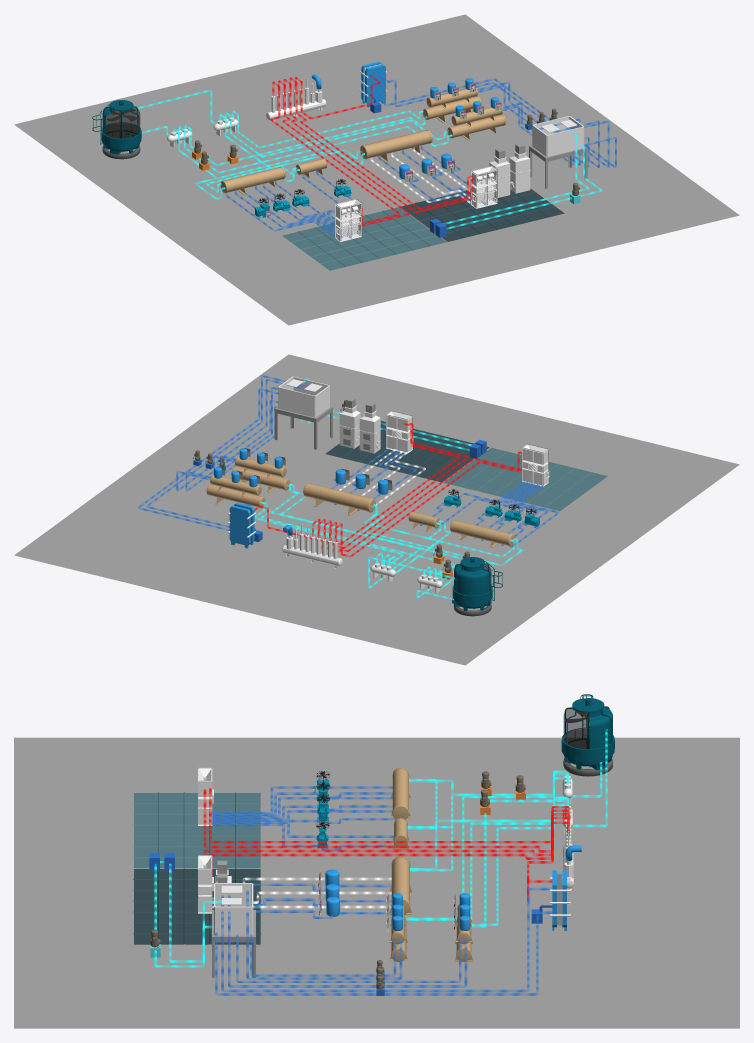
Rendered from psy-20t-1.glb.
3 views of the same model, one above another, from view 1: azimuth 30°, elevation 25°; view 2: azimuth 150°, elevation 25°; view 3: azimuth 270°, elevation 25° (orthographic). The views are drawn at different scales.
Visible parts, largest first — view 1: Land_4_floor, FBXASC229FBXASC185FBXASC179FBXASC233FBXASC157FBXASC162FBXASC, FBXASC231FBXASC171FBXASC139FBXASC230FBXASC150FBXASC185FBXAS. (×2), FBXASC229FBXASC134FBXASC183FBXASC229FBXASC135FBXASC157FBXASC (×3), cool_twr_fan_model, FBXASC229FBXASC164FBXASC150FBXASC232FBXASC146FBXASC184FBXASC, 4_GD_move.006, id_fan_induce2_model, od_fanirhd_model, id_fan_airhd_model, FBXASC229FBXASC134FBXASC183FBXASC229FBXASC135FBXASC157FBXAS, 4_GD_move.017 (+10 smaller); view 2: Land_4_floor, FBXASC229FBXASC185FBXASC179FBXASC233FBXASC157FBXASC162FBXASC, FBXASC231FBXASC171FBXASC139FBXASC230FBXASC150FBXASC185FBXAS. (×2), FBXASC229FBXASC134FBXASC183FBXASC229FBXASC135FBXASC157FBXASC (×3), cool_twr_fan_model, FBXASC229FBXASC164FBXASC150FBXASC232FBXASC146FBXASC184FBXASC, FBXASC229FBXASC134FBXASC183FBXASC229FBXASC135FBXASC157FBXAS. (×2), od_fanirhd_model, id_fan_airhd_model, id_fan_induce1_model, id_fan_induce2_model, 4_GD_move.001 (+7 smaller); view 3: Land_4_floor, FBXASC229FBXASC185FBXASC179FBXASC233FBXASC157FBXASC162FBXASC, cool_twr_fan_model, FBXASC231FBXASC171FBXASC139FBXASC230FBXASC150FBXASC185FBXAS., FBXASC229FBXASC134FBXASC183FBXASC229FBXASC135FBXASC157FBXASC (×2), 4_GD_move.001, 4_GD_move, 4_GD_move.018, 4_GD_move.016, 4_GD_move.017, 4_GD_move.019, 4_GD_move.002 (+11 smaller).
Part boxes in pixels (x1,y1,x2,y2): Land_4_floor: (14, 14, 739, 325); FBXASC229FBXASC185FBXASC179FBXASC233FBXASC157FBXASC162FBXASC: (282, 188, 564, 270); FBXASC231FBXASC171FBXASC139FBXASC230FBXASC150FBXASC185FBXAS. (×2): (365, 64, 587, 188); FBXASC229FBXASC134FBXASC183FBXASC229FBXASC135FBXASC157FBXASC (×3): (220, 96, 481, 194); cool_twr_fan_model: (92, 100, 141, 159); FBXASC229FBXASC164FBXASC150FBXASC232FBXASC146FBXASC184FBXASC: (266, 78, 326, 122); 4_GD_move.006: (444, 128, 602, 229); id_fan_induce2_model: (509, 143, 530, 193); od_fanirhd_model: (335, 199, 361, 241); id_fan_airhd_model: (471, 165, 497, 208); FBXASC229FBXASC134FBXASC183FBXASC229FBXASC135FBXASC157FBXAS: (447, 114, 506, 140); 4_GD_move.017: (283, 79, 474, 213); Land_4_floor: (14, 354, 739, 665); FBXASC229FBXASC185FBXASC179FBXASC233FBXASC157FBXASC162FBXASC: (325, 421, 607, 511); FBXASC231FBXASC171FBXASC139FBXASC230FBXASC150FBXASC185FBXAS. (×2): (229, 376, 332, 548); FBXASC229FBXASC134FBXASC183FBXASC229FBXASC135FBXASC157FBXASC (×3): (206, 483, 515, 547); cool_twr_fan_model: (452, 557, 502, 616); FBXASC229FBXASC164FBXASC150FBXASC232FBXASC146FBXASC184FBXASC: (282, 524, 342, 568); FBXASC229FBXASC134FBXASC183FBXASC229FBXASC135FBXASC157FBXAS. (×2): (210, 456, 286, 496); od_fanirhd_model: (522, 443, 549, 486); id_fan_airhd_model: (386, 410, 413, 453); id_fan_induce1_model: (359, 402, 380, 453); id_fan_induce2_model: (339, 397, 360, 448); 4_GD_move.001: (146, 375, 307, 527); Land_4_floor: (14, 737, 739, 1028); FBXASC229FBXASC185FBXASC179FBXASC233FBXASC157FBXASC162FBXASC: (133, 792, 261, 944); cool_twr_fan_model: (561, 694, 614, 776); FBXASC231FBXASC171FBXASC139FBXASC230FBXASC150FBXASC185FBXAS.: (212, 883, 255, 977); FBXASC229FBXASC134FBXASC183FBXASC229FBXASC135FBXASC157FBXASC (×2): (389, 767, 411, 914); 4_GD_move.001: (221, 887, 551, 992); 4_GD_move: (215, 911, 552, 995); 4_GD_move.018: (203, 789, 569, 852); 4_GD_move.016: (210, 816, 569, 876); 4_GD_move.017: (203, 813, 569, 856); 4_GD_move.019: (209, 788, 570, 843); 4_GD_move.002: (228, 895, 467, 987).
Bounding box in the file's own units: 112 × 14.1 × 118.
26 materials, 4 textured.
